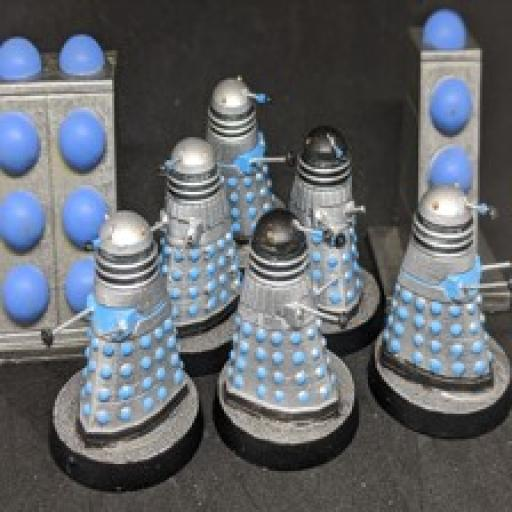dalek: (37, 208, 189, 447), (371, 184, 512, 392), (219, 206, 349, 417), (146, 132, 236, 360), (196, 74, 296, 248), (289, 122, 370, 324)
